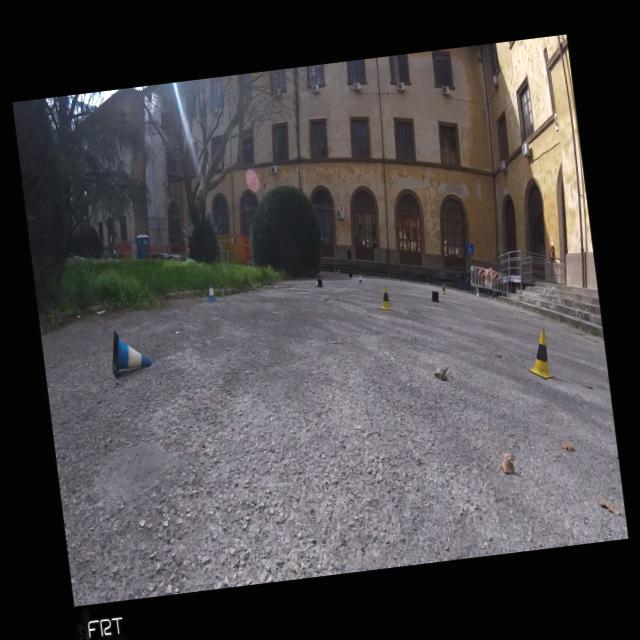blue_cone: (108, 326, 152, 379), (205, 281, 217, 302), (356, 273, 363, 284), (333, 267, 336, 272), (337, 270, 339, 274)
unknown_cone: (430, 290, 440, 304), (314, 278, 323, 288), (348, 272, 352, 277)
yellow_cone: (524, 328, 554, 381), (378, 286, 392, 312), (440, 282, 446, 296), (426, 277, 429, 285), (386, 272, 389, 279)
